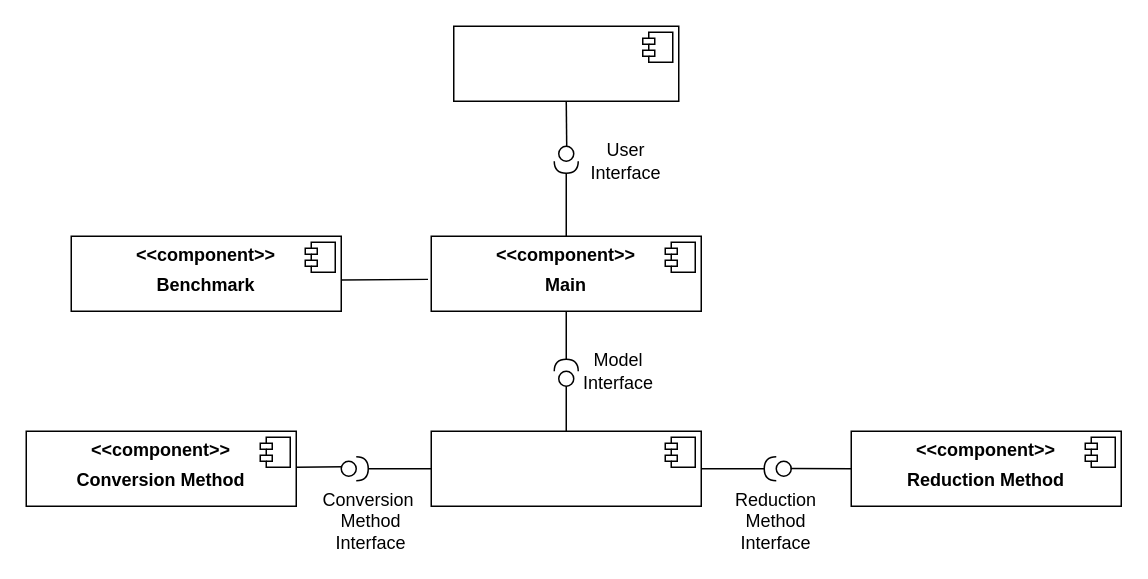
The diagram is 1148 pixels wide and 579 high, and some of its shapes have lost their labels. The centre of each missing label's shape, as x and y in pixels:
"<<component>> Model" goes at (x=565, y=468).
"<<component>> User" goes at (x=565, y=63).
